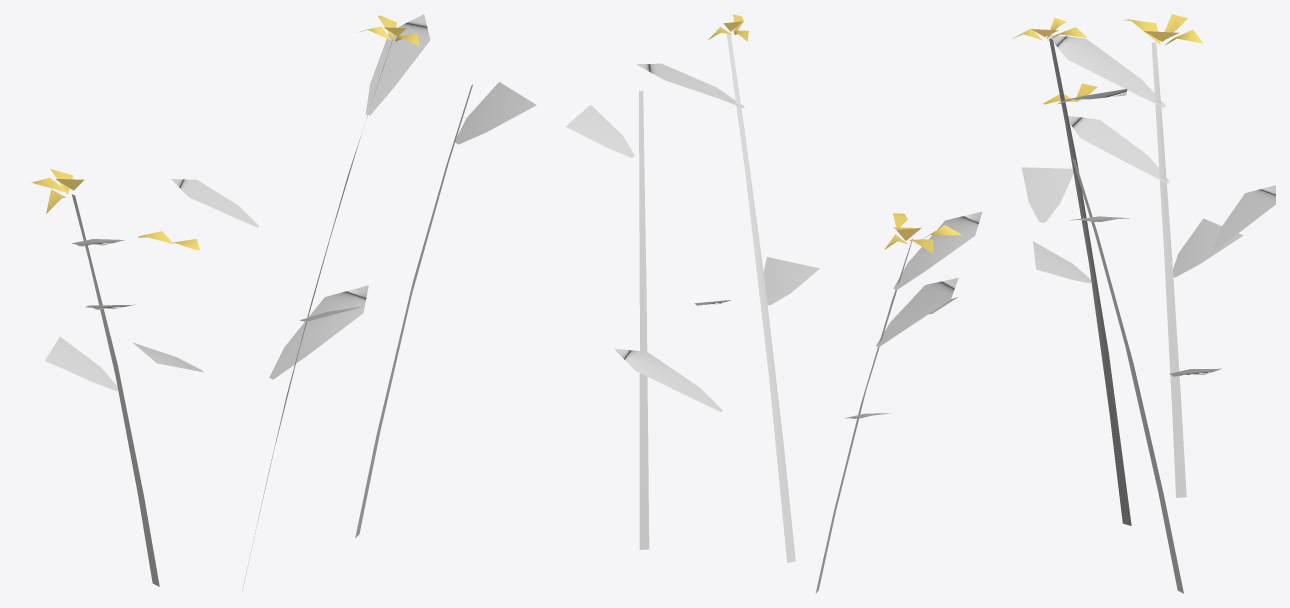
File: FieldWeedSprig_LOD0.glb
The picture shows the model from 3 angles, left to right: view 1: azimuth 30°, elevation 25°; view 2: azimuth 150°, elevation 25°; view 3: azimuth 270°, elevation 25°; orthographic projection. The views are drawn at different scales.
Visible parts, largest first — view 1: FieldWeedSprig_LOD0; view 2: FieldWeedSprig_LOD0; view 3: FieldWeedSprig_LOD0.
Part boxes in pixels (bbox=[...]): FieldWeedSprig_LOD0: bbox=[31, 14, 536, 590]; FieldWeedSprig_LOD0: bbox=[565, 14, 982, 593]; FieldWeedSprig_LOD0: bbox=[1012, 14, 1275, 593].
Bounding box in the file's own units: 0.6684 × 0.7868 × 0.3441.
